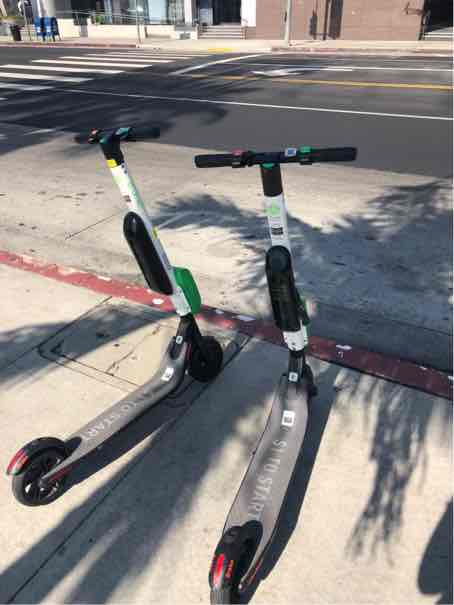scooter: (4, 113, 237, 517), (177, 144, 379, 605)
